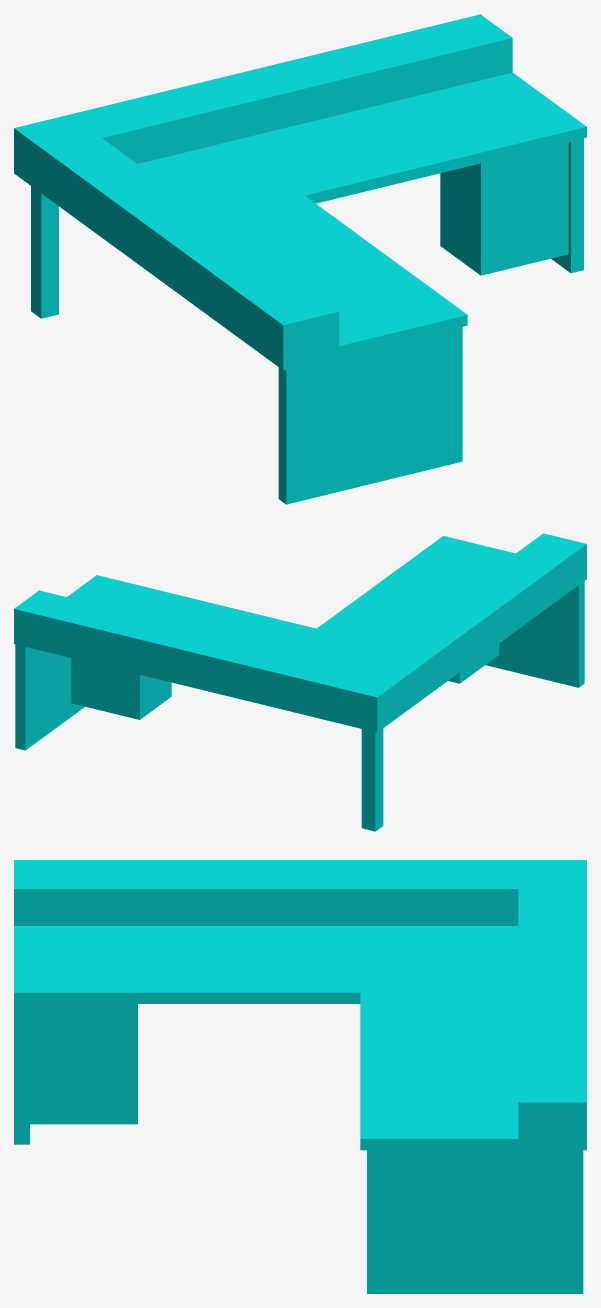
The model's file is SM_Prop_Security_Desk_02_Collision.fbx.
3 views of the same model, one above another, from view 1: azimuth 30°, elevation 25°; view 2: azimuth 150°, elevation 25°; view 3: azimuth 270°, elevation 25° (orthographic). The views are drawn at different scales.
Parts seen in each view (by area): view 1: SM_Prop_Security_Desk_02_Collision; view 2: SM_Prop_Security_Desk_02_Collision; view 3: SM_Prop_Security_Desk_02_Collision.
Part boxes in pixels (<box>): SM_Prop_Security_Desk_02_Collision: <box>14,14,586,504</box>; SM_Prop_Security_Desk_02_Collision: <box>14,533,586,831</box>; SM_Prop_Security_Desk_02_Collision: <box>14,860,586,1293</box>.
Size of the model in its own units: 252 by 92.81 by 252.
